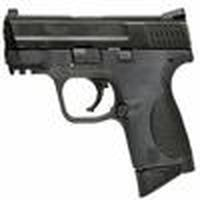gun: (3, 7, 199, 161)
